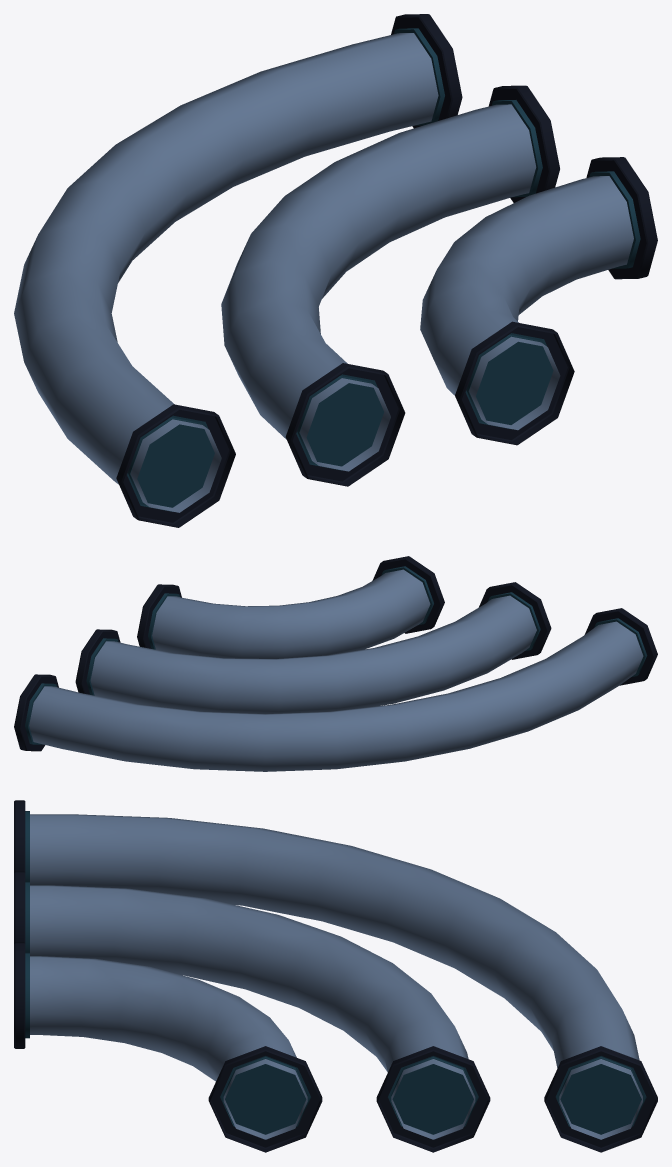
The model's file is PipeComplexSmall_A_17.fbx.
3 views of the same model, one above another, from view 1: azimuth 30°, elevation 25°; view 2: azimuth 150°, elevation 25°; view 3: azimuth 270°, elevation 25° (orthographic). The views are drawn at different scales.
Parts seen in each view (by area): view 1: PipeComplexSmall_A_17.001; view 2: PipeComplexSmall_A_17.001; view 3: PipeComplexSmall_A_17.001.
Part boxes in pixels (left/top/right/bottom): PipeComplexSmall_A_17.001: left=14, top=14, right=657, bottom=527; PipeComplexSmall_A_17.001: left=14, top=556, right=657, bottom=771; PipeComplexSmall_A_17.001: left=14, top=800, right=657, bottom=1152.
Bounding box in the file's own units: 0.7678 × 0.1356 × 0.7678.
